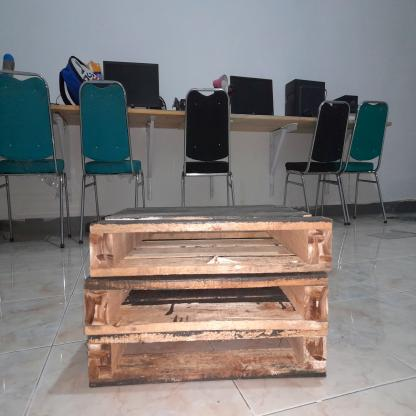Wooden-Pallet: (87, 202, 333, 278), (83, 271, 330, 336), (85, 329, 329, 394)
